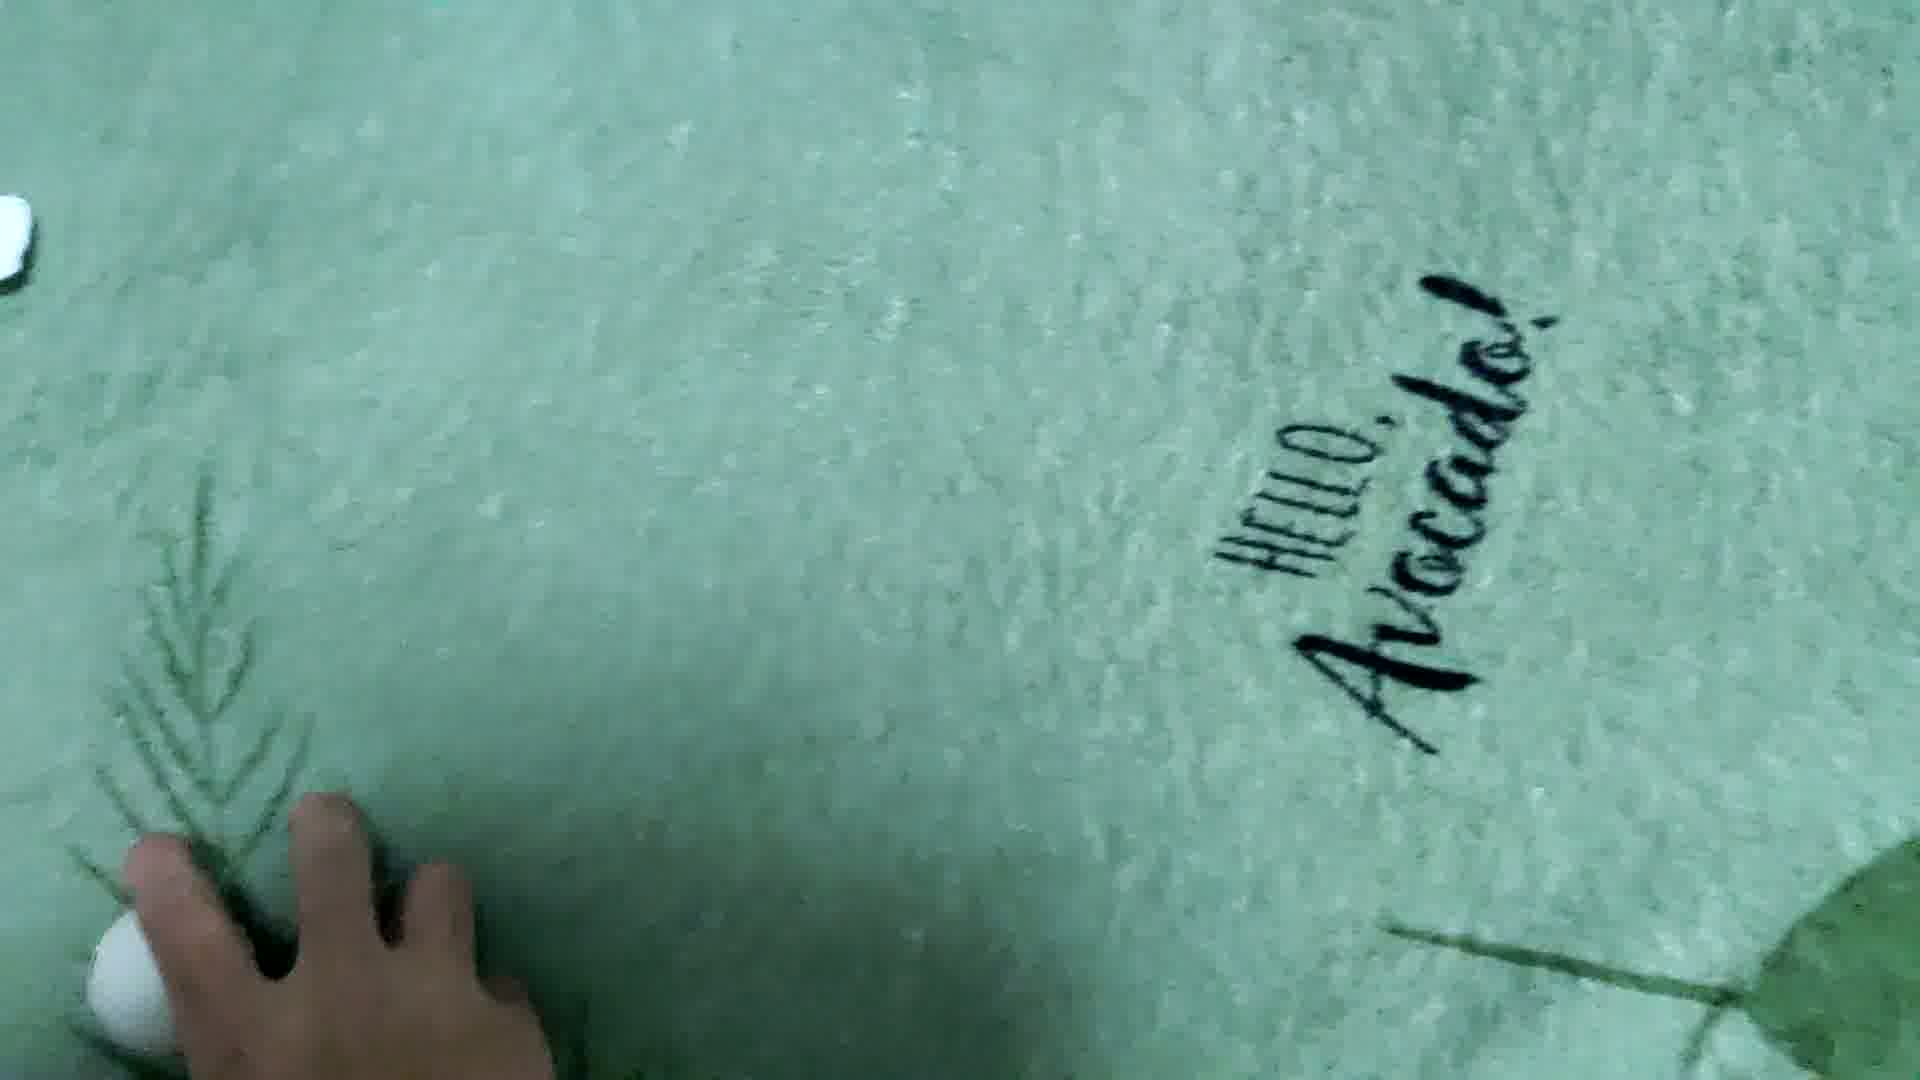Ball: (91, 903, 241, 1054)
